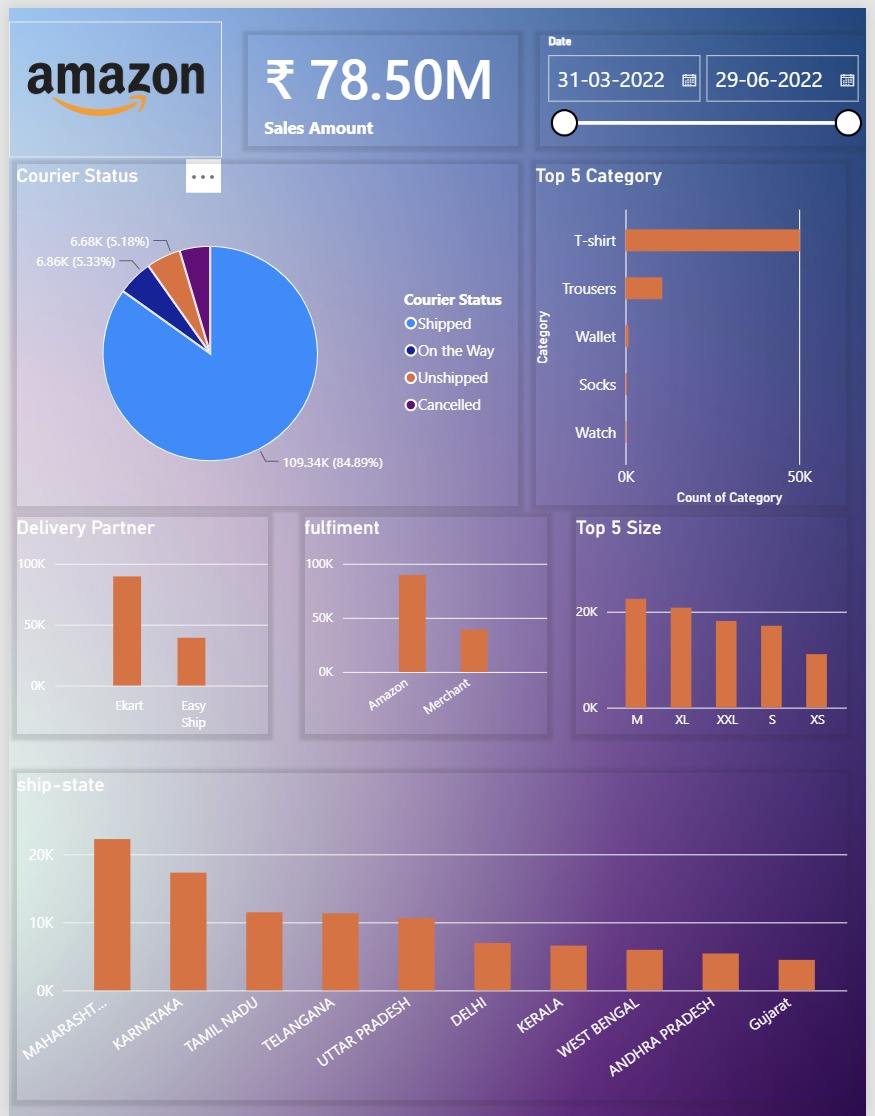

This screenshot's page, from the dashboard's own definition file:
{"tool":"powerbi","page":{"name":"Page 1","canvas":[816,1056],"ordinal":0},"visuals":[{"type":"image","box":[0,13.1,203.1,129.2],"z":0},{"type":"cardVisual","fields":{"Data":["Sum(Amazon Sale Report.Amount)"]},"box":[226.9,25.4,257.7,105.4],"z":1000},{"type":"slicer","fields":{"Values":["Amazon Sale Report.Date"]},"box":[506,25,310,105],"z":2000},{"type":"barChart","title":"Top 5 Category","fields":{"Category":["Amazon Sale Report.Category"],"Y":["CountNonNull(Amazon Sale Report.Category)"]},"box":[502,149,296.2,324.6],"z":3000},{"type":"pieChart","title":"Courier Status ","fields":{"Category":["Amazon Sale Report.Courier Status"],"Y":["CountNonNull(Amazon Sale Report.Courier Status)"]},"box":[7,149,478,325],"z":4000},{"type":"columnChart","title":"Delivery Partner","fields":{"Category":["Amazon Sale Report.fulfilled-by"],"Y":["CountNonNull(Amazon Sale Report.fulfilled-by)"]},"box":[7,484,239,207],"z":5000},{"type":"columnChart","title":"fulfiment","fields":{"Category":["Amazon Sale Report.Fulfilment"],"Y":["CountNonNull(Amazon Sale Report.Fulfilment)"]},"box":[282,484,231,207],"z":6000},{"type":"columnChart","title":"Top 5 Size","fields":{"Category":["Amazon Sale Report.Size"],"Y":["CountNonNull(Amazon Sale Report.Size)"]},"box":[540,484,258,207],"z":7000},{"type":"clusteredColumnChart","title":"ship-state","fields":{"Category":["Amazon Sale Report.ship-state"],"Y":["CountNonNull(Amazon Sale Report.ship-state)"]},"box":[7,728,791,311],"z":8000}]}

Visuals, with their boxes in screenshot pixels (x1, y1, x2, y2), scaled from the page's 816x1056 canvas onto the 875x1116 screenshot:
image: 0, 14, 218, 150
cardVisual - Sum(Amazon Sale Report.Amount): 243, 27, 520, 138
slicer - Amazon Sale Report.Date: 543, 26, 874, 137
"Top 5 Category" barChart: 538, 157, 856, 501
"Courier Status " pieChart: 8, 157, 520, 501
"Delivery Partner" columnChart: 8, 512, 264, 730
"fulfiment" columnChart: 302, 512, 550, 730
"Top 5 Size" columnChart: 579, 512, 856, 730
"ship-state" clusteredColumnChart: 8, 769, 856, 1098
